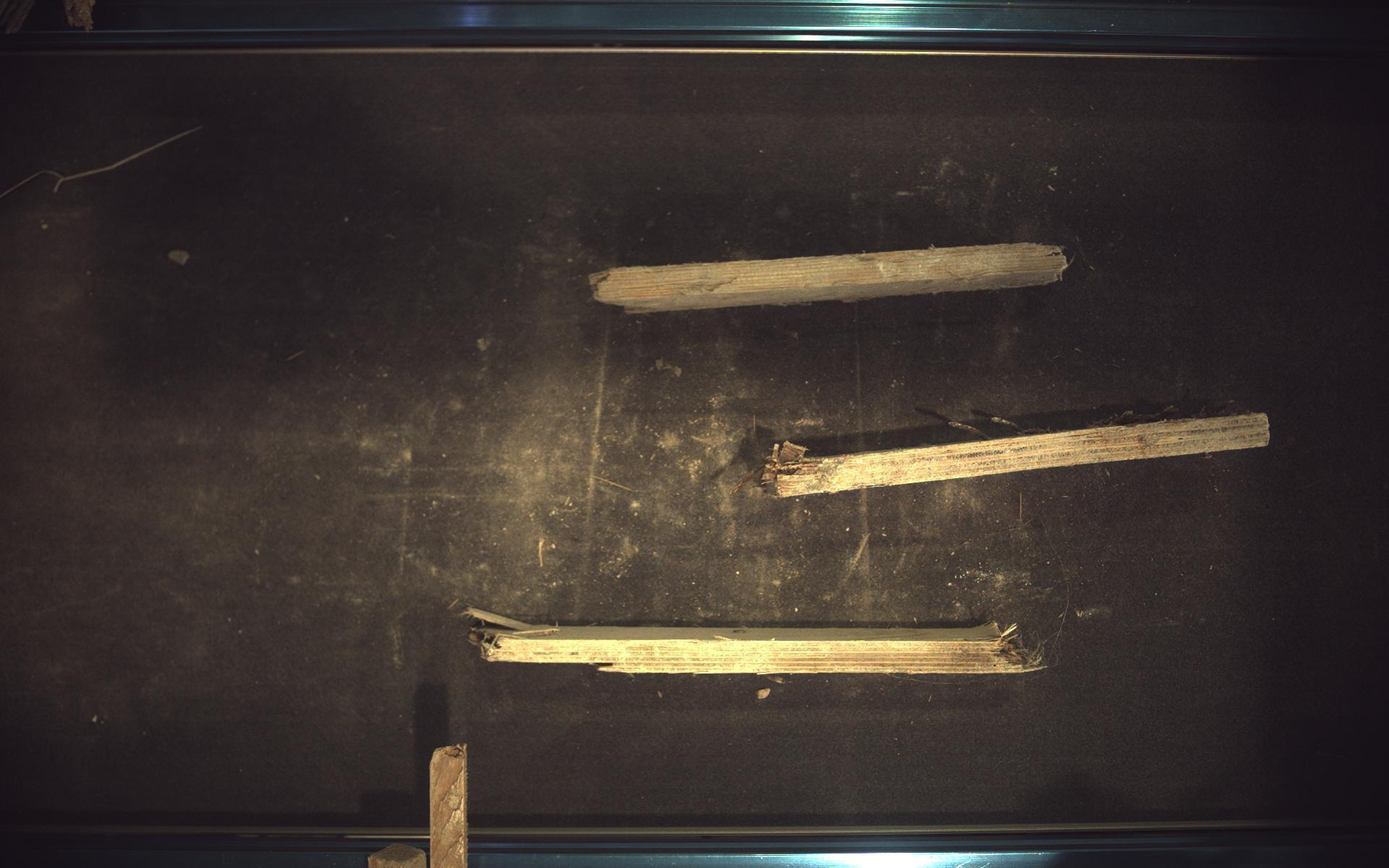wood: (763, 413, 1272, 498), (465, 609, 1045, 676), (590, 242, 1071, 312), (430, 746, 468, 868), (368, 846, 426, 868)
